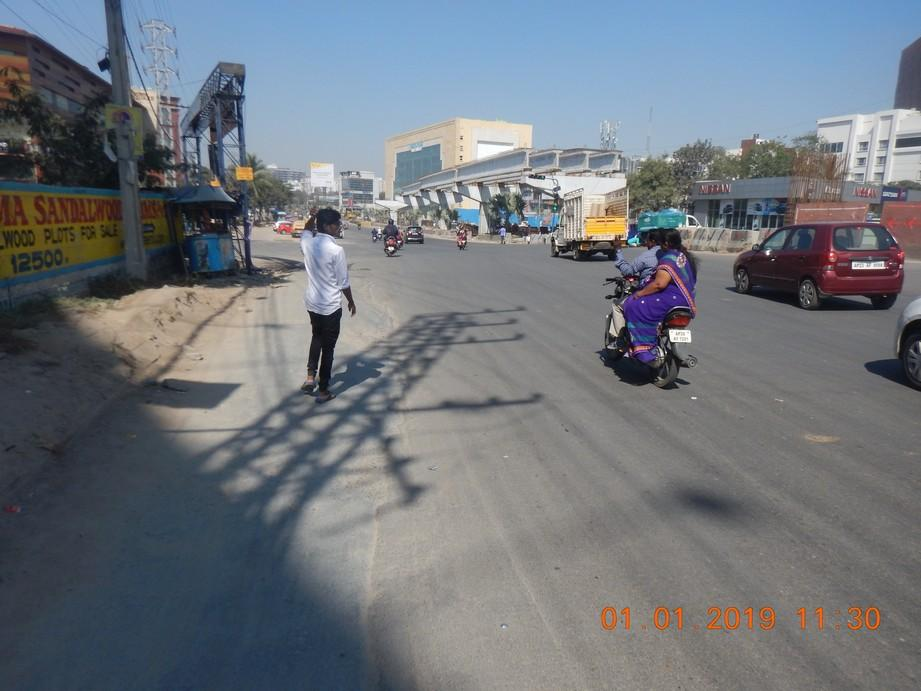plate: (669, 329, 692, 343)
